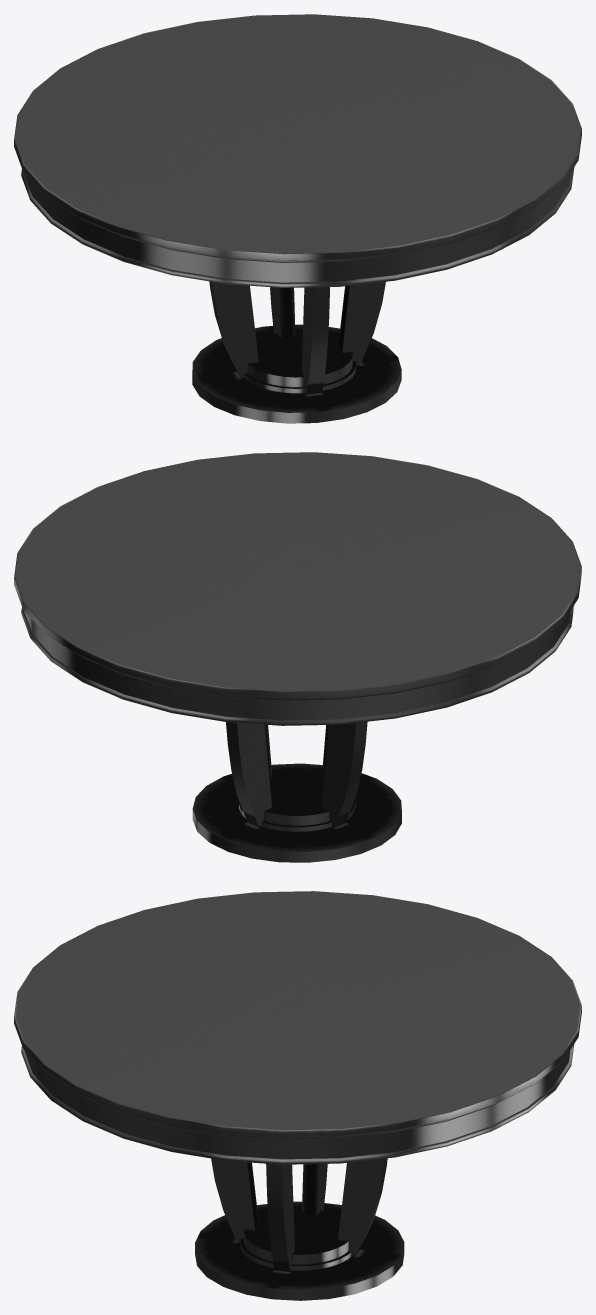
Rendered from raw_model.obj.
3 renders of one model, top to bottom at view 1: azimuth 30°, elevation 25°; view 2: azimuth 150°, elevation 25°; view 3: azimuth 270°, elevation 25°, orthographic.
Parts seen in each view (by area): view 1: solid; view 2: solid; view 3: solid.
Part boxes in pixels (x1=…): solid: x1=14, y1=14, x2=581, y2=423; solid: x1=14, y1=452, x2=581, y2=862; solid: x1=14, y1=891, x2=581, y2=1300.
Size of the model in its own units: 1.52 by 0.7275 by 1.52.
Materials: 1 (1 with a texture image).
